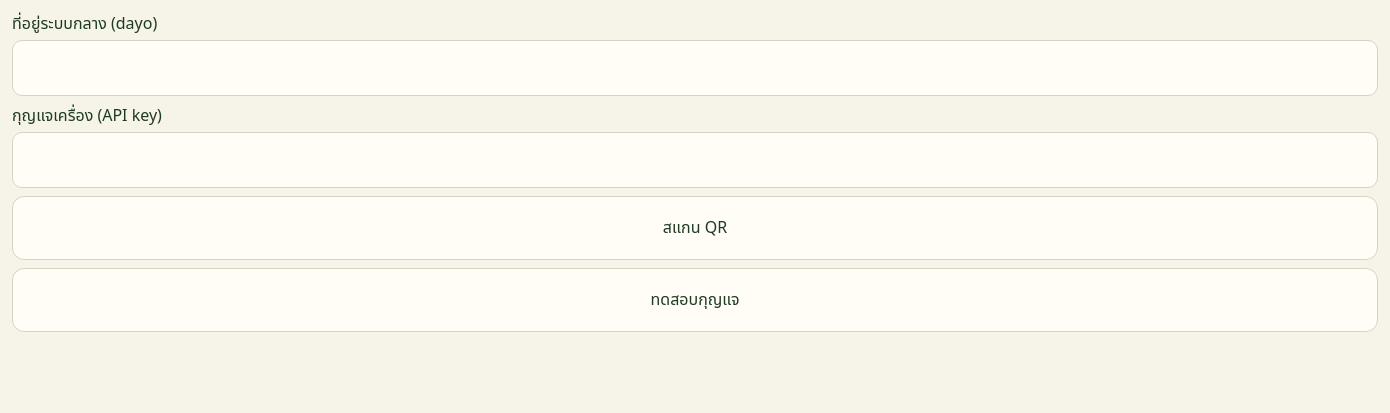
Test case: ConnectFields — QR scan (quality review, fix round 1) › shows a Thai message, not the raw browser text, when the camera is denied
Click the button with test id "setup-scan" at x=695, y=228, box [12,196,1378,260]
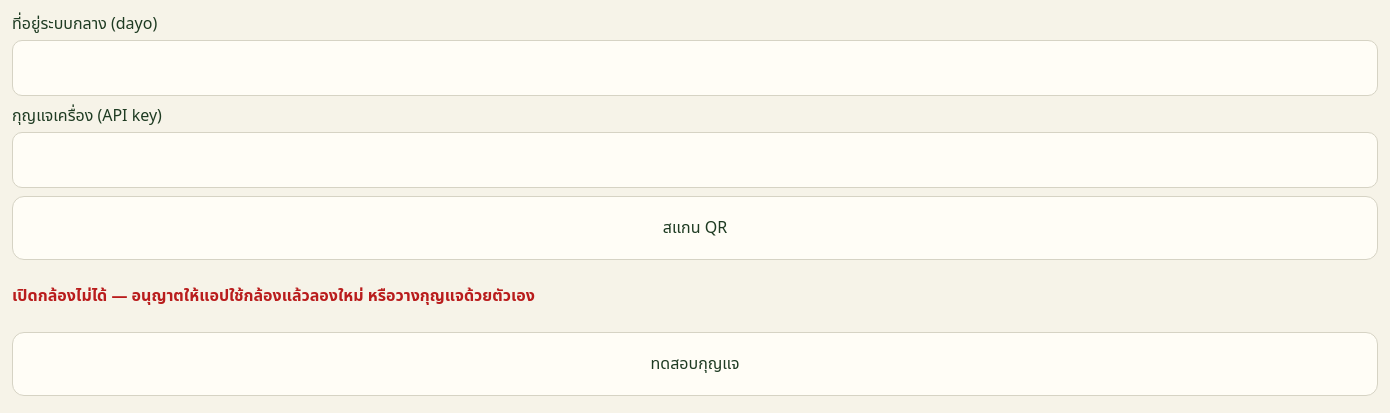
Result: the message reads "เปิดกล้องไม่ได้ — อนุญาตให้แอปใช้กล้องแล้วลองใหม่ หรือวางกุญแจด้วยตัวเอง" at [12,284,535,306]
